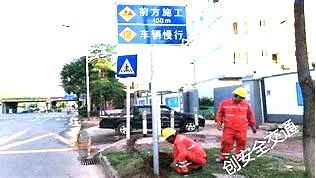sign: (115, 4, 189, 46)
